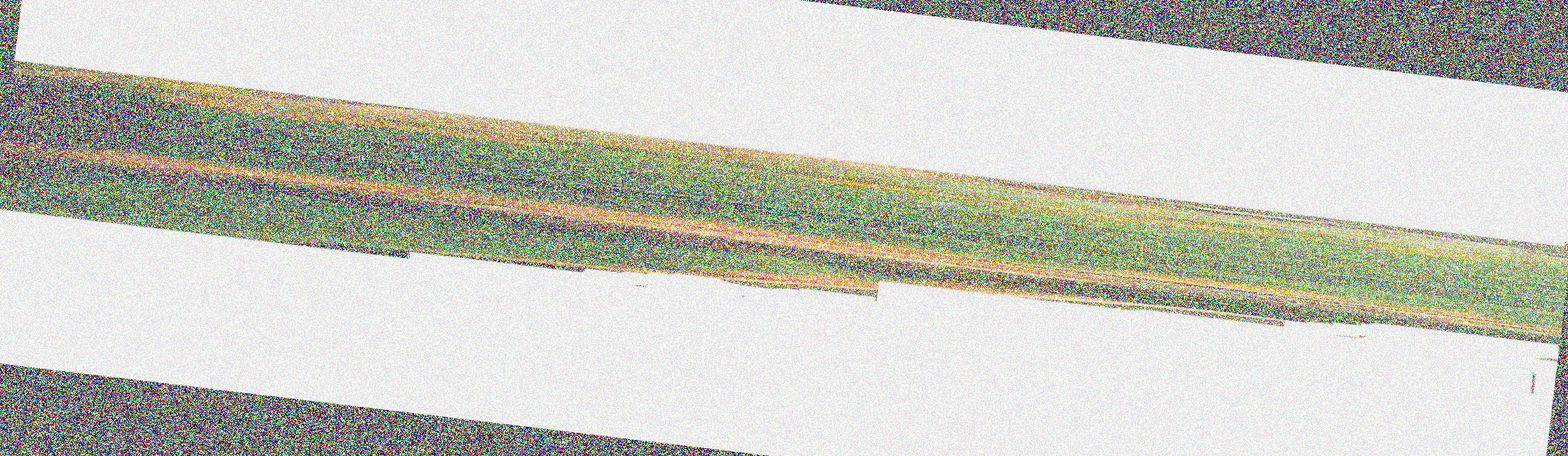Leaf_Blast: (5, 213, 1535, 284), (34, 129, 1547, 197)
